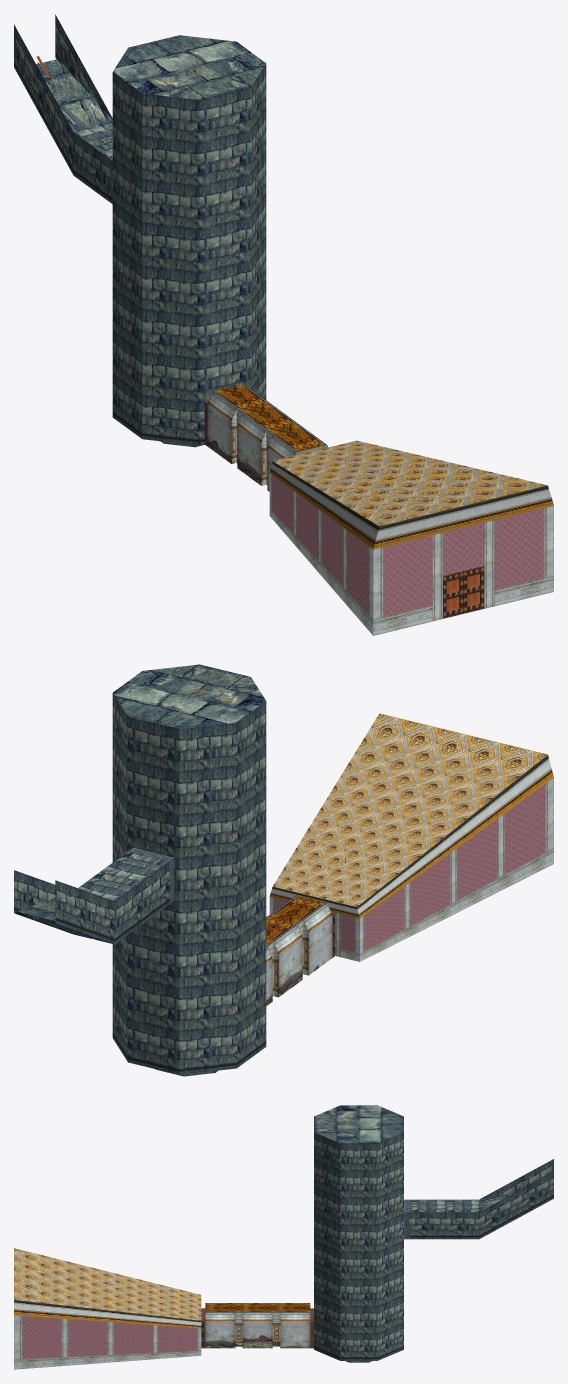
Rendered from Terror_hall1.obj.
The picture shows the model from 3 angles, top to bottom: view 1: azimuth 30°, elevation 25°; view 2: azimuth 150°, elevation 25°; view 3: azimuth 270°, elevation 25°; orthographic projection. The views are drawn at different scales.
Visible parts, largest first — view 1: Object_2; view 2: Object_2; view 3: Object_2.
Boxes of the visible parts, box(x1,y1,x2,y2) form: Object_2: box(14, 14, 553, 635); Object_2: box(14, 664, 553, 1076); Object_2: box(14, 1105, 553, 1369).
Size of the model in its own units: 350 by 670 by 1440.
